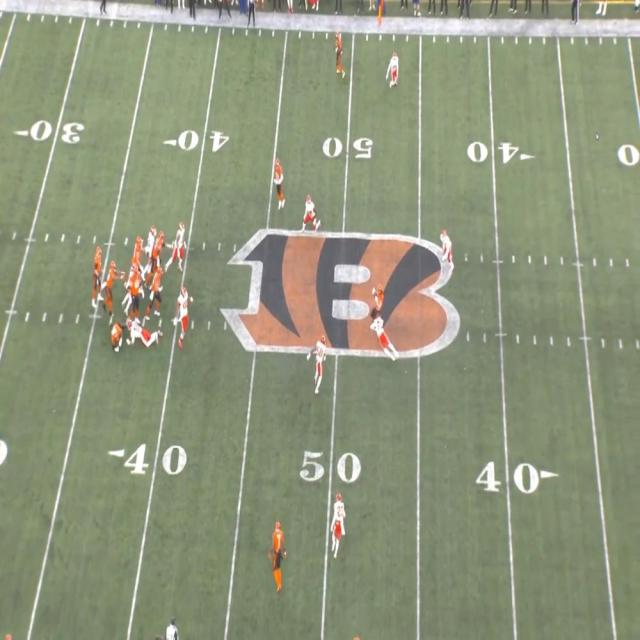db: (374, 314, 392, 361), (331, 495, 346, 551), (439, 230, 455, 272), (390, 52, 402, 86)
lb: (316, 333, 327, 395), (303, 196, 317, 231)
qb: (92, 248, 102, 304)
skill: (274, 521, 286, 573), (334, 30, 345, 80), (106, 263, 114, 317), (276, 160, 286, 202), (372, 285, 383, 319)
